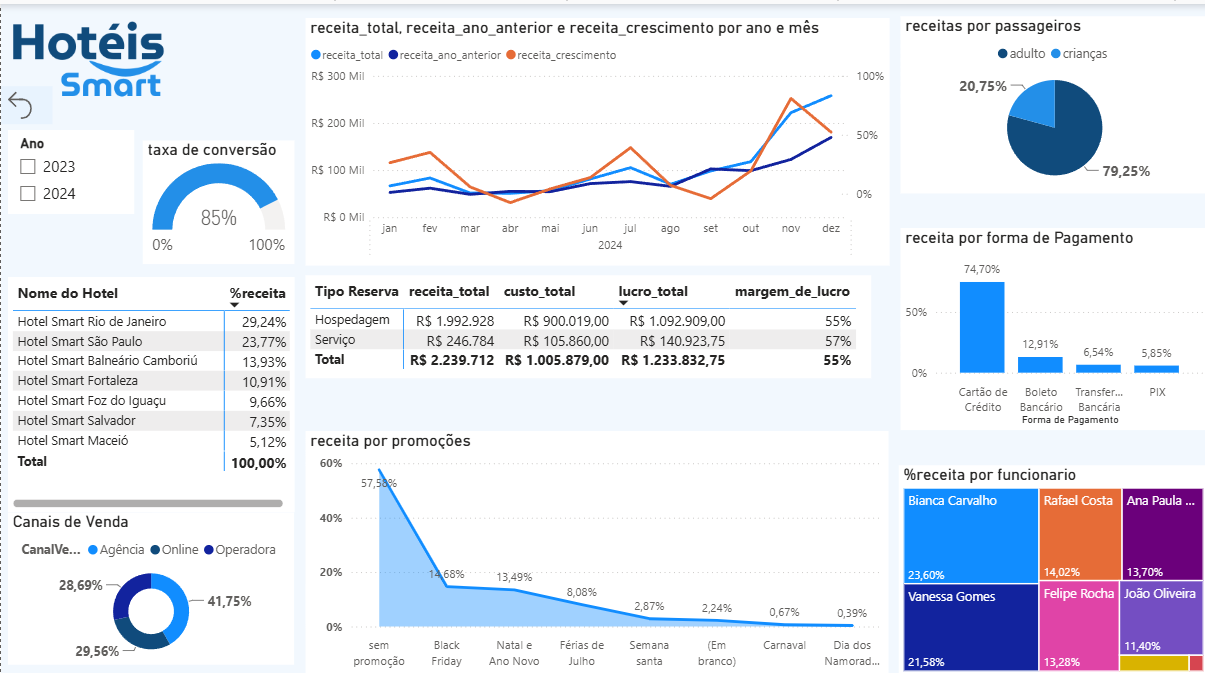

What the dashboard file says about the page in this screenshot:
{"tool":"powerbi","page":{"name":"Dashboard","canvas":[1280,720],"ordinal":0},"visuals":[{"type":"donutChart","title":"Canais de Venda","fields":{"Category":["Reservas.CanalVenda"],"Y":["Medidas.Receita Total"]},"box":[7,546,299,160],"z":0},{"type":"lineChart","fields":{"Category":["ReservasDatas.Ano","ReservasDatas.Mes"],"Y":["Medidas.Receita Total","Medidas.Receita do Ano Anterior"],"Y2":["Medidas.Receita Crescimento"]},"box":[321,14,616,261],"z":1000},{"type":"pivotTable","fields":{"Values":["Medidas.Receita Total","Medidas.Custo Total","Medidas.Lucro Total","Medidas.Margem de Lucro"],"Rows":["Reservas.TipoReserva"]},"box":[321,287,615,125],"z":2000},{"type":"areaChart","title":"% Receita por Promoções","fields":{"Category":["Reservas.Promoções"],"Y":["Medidas.Receita Total"]},"box":[321,451,615,256],"z":3000},{"type":"pieChart","title":"Receita por Passageiro","fields":{"Y":["Medidas.Receita Adulto","Medidas.Receita Crianças"]},"box":[948,13,325,187],"z":4000},{"type":"columnChart","title":"% Receita por Forma de Pagamento","fields":{"Category":["Reservas.FormaPagamento"],"Y":["Medidas.Receita Total"]},"box":[948,237,325,213],"z":5000},{"type":"treemap","title":"% Receita por Funcionário","fields":{"Group":["Funcionários.Nome do Funcionário"],"Values":["Medidas.Receita Total"]},"box":[947,485,326,222],"z":6000},{"type":"tableEx","title":"% Receita por Hotel","fields":{"Values":["Hotéis Smart.Nome do Hotel","Medidas.Receita Total"]},"box":[7,288,302,247],"z":7000},{"type":"gauge","fields":{"Y":["Medidas.Taxa de Conversão"]},"box":[149,144,160,130],"z":8000},{"type":"slicer","fields":{"Values":["ReservasDatas.Ano"]},"box":[7,133,133,130],"z":9000},{"type":"image","title":"Logo","box":[7,7,169.6,100.7],"z":10000},{"type":"actionButton","box":[11.9,93.8,47.6,39.6],"z":11000}]}

Visuals, with their boxes in screenshot pixels (x1, y1, x2, y2), scaled from the page's 1280x720 canvas onto the 1205x673 screenshot:
"Canais de Venda" donutChart: [7, 510, 288, 660]
lineChart - ReservasDatas.Ano x ReservasDatas.Mes: [302, 13, 882, 257]
pivotTable - Medidas.Receita Total x Medidas.Custo Total: [302, 268, 881, 385]
"% Receita por Promoções" areaChart: [302, 422, 881, 661]
"Receita por Passageiro" pieChart: [892, 12, 1198, 187]
"% Receita por Forma de Pagamento" columnChart: [892, 222, 1198, 421]
"% Receita por Funcionário" treemap: [892, 453, 1198, 661]
"% Receita por Hotel" tableEx: [7, 269, 291, 500]
gauge - Medidas.Taxa de Conversão: [140, 135, 291, 256]
slicer - ReservasDatas.Ano: [7, 124, 132, 246]
"Logo" image: [7, 7, 166, 101]
actionButton: [11, 88, 56, 125]
